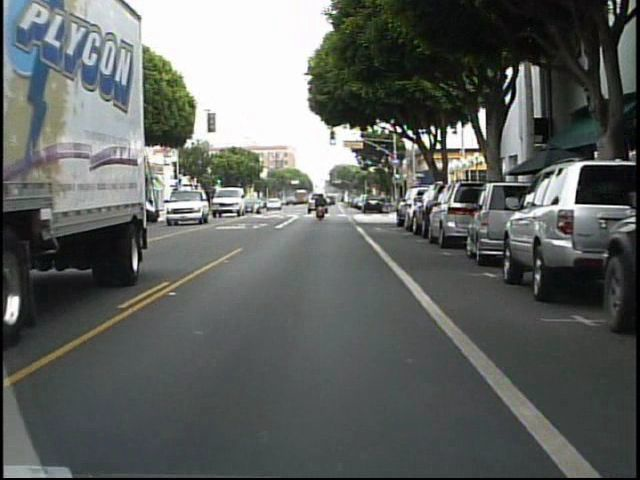person: (314, 191, 329, 221)
